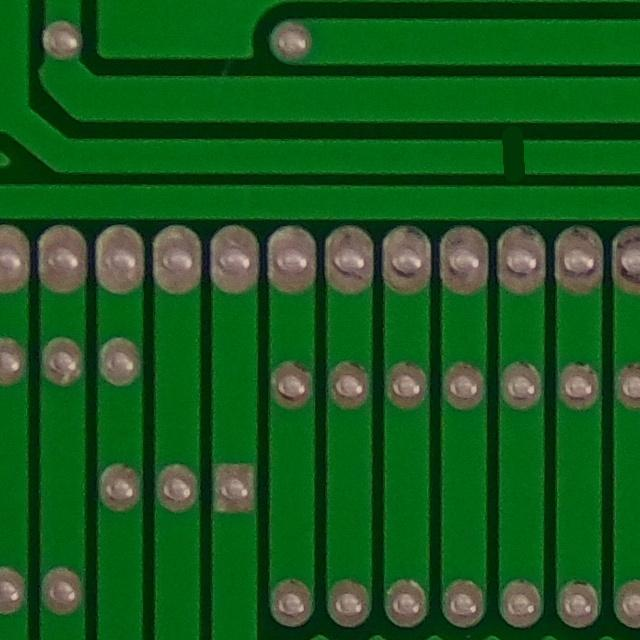open_circuit: (482, 126, 544, 179)
